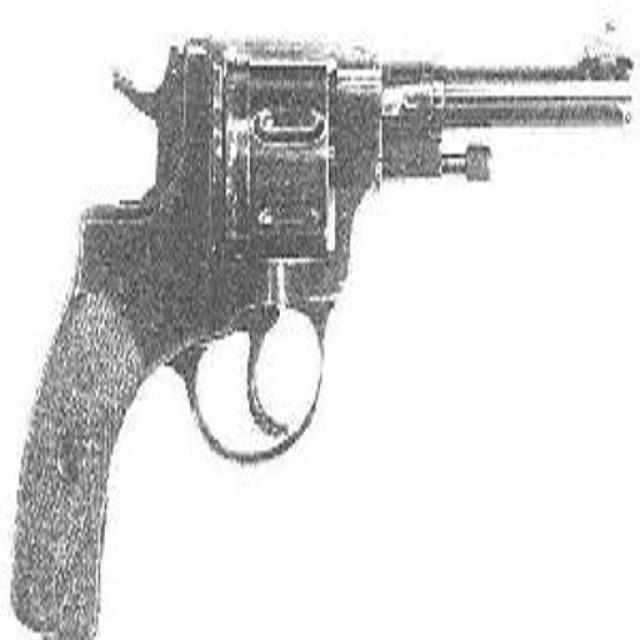pistol: (7, 15, 631, 640)
